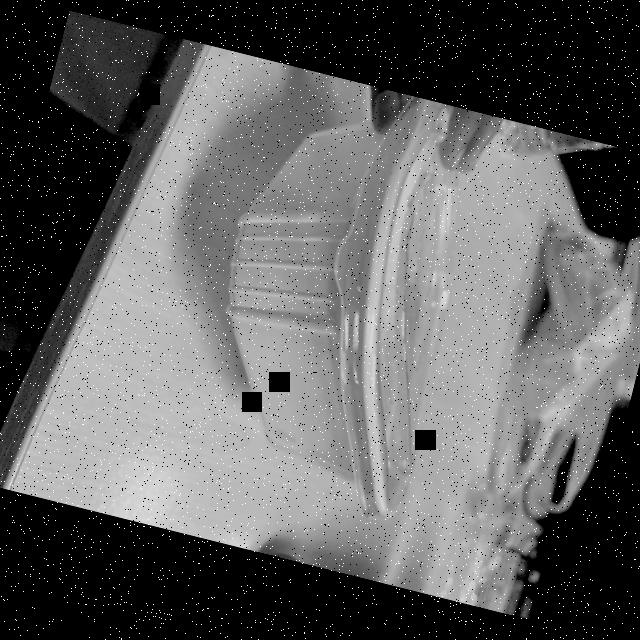plastic_box: (160, 59, 528, 538)
